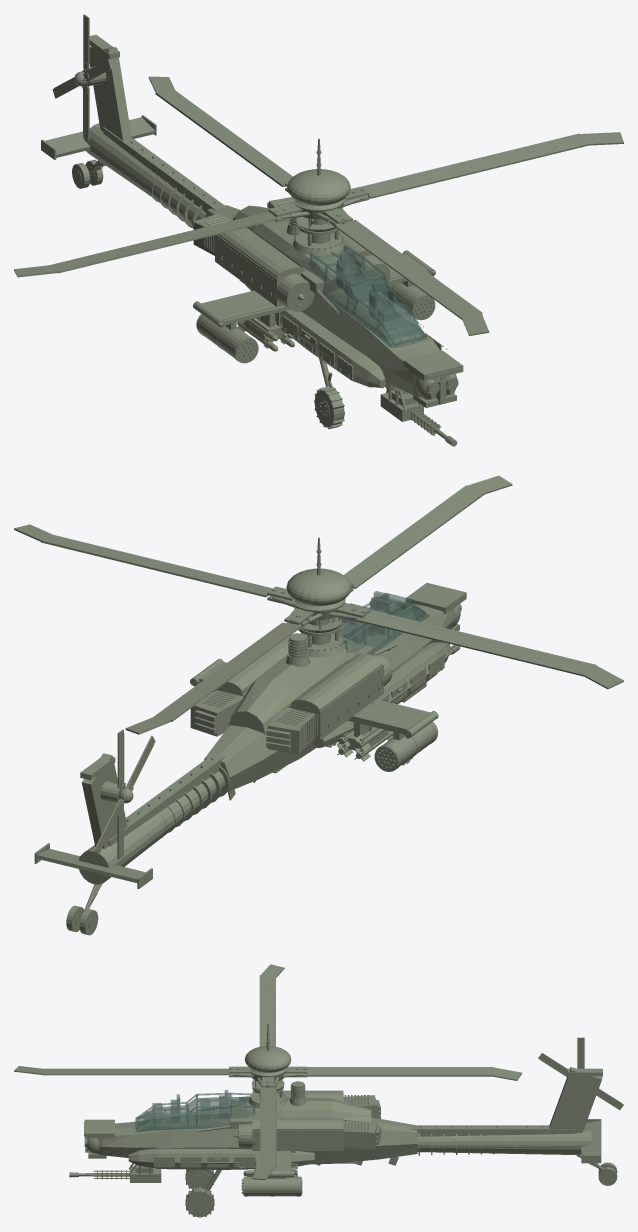
File: Boeing_AH64E_Apache_Master_Blender.glb
The picture shows the model from 3 angles, top to bottom: view 1: azimuth 30°, elevation 25°; view 2: azimuth 150°, elevation 25°; view 3: azimuth 270°, elevation 25°; orthographic projection. The views are drawn at different scales.
Visible parts, largest first — view 1: fuselage_part_0, canopy_part_159, tailboom_part_979, mainRotor_part_476, fuselage_part_1, fuselage_part_12, mainRotor_part_447, tailboom_part_1011, tailboom_part_994, mainRotor_part_552, nacelles_part_554, nacelles_part_555 (+15 smaller); view 2: fuselage_part_0, fuselage_part_1, tailboom_part_979, mainRotor_part_534, mainRotor_part_447, nacelles_part_554, nacelles_part_555, fuselage_part_12, tailboom_part_994, mainRotor_part_552, mainRotor_part_505, tailboom_part_1011 (+13 smaller); view 3: fuselage_part_0, tailboom_part_979, canopy_part_159, fuselage_part_84, fuselage_part_1, tailboom_part_1011, tailboom_part_994, nacelles_part_630, mainRotor_part_505, mainRotor_part_476, mainRotor_part_552, mainRotor_part_447 (+17 smaller).
Boxes of the visible parts, x1,y1,x2,y2 form: fuselage_part_0: [205, 205, 436, 397]; canopy_part_159: [310, 250, 425, 347]; tailboom_part_979: [84, 123, 206, 224]; mainRotor_part_476: [365, 136, 589, 198]; fuselage_part_1: [233, 205, 360, 293]; fuselage_part_12: [251, 289, 385, 388]; mainRotor_part_447: [336, 221, 481, 319]; tailboom_part_1011: [89, 46, 131, 140]; tailboom_part_994: [103, 127, 227, 212]; mainRotor_part_552: [287, 169, 350, 205]; nacelles_part_554: [215, 234, 300, 306]; nacelles_part_555: [218, 227, 305, 278]; fuselage_part_0: [204, 604, 455, 791]; fuselage_part_1: [229, 637, 360, 734]; tailboom_part_979: [78, 771, 224, 884]; mainRotor_part_534: [361, 612, 595, 676]; mainRotor_part_447: [347, 487, 485, 588]; nacelles_part_554: [290, 665, 383, 740]; nacelles_part_555: [291, 653, 382, 711]; fuselage_part_12: [313, 642, 450, 748]; tailboom_part_994: [108, 753, 226, 846]; mainRotor_part_552: [286, 568, 351, 606]; mainRotor_part_505: [152, 622, 296, 721]; tailboom_part_1011: [81, 753, 127, 848]; fuselage_part_0: [97, 1113, 417, 1164]; tailboom_part_979: [417, 1129, 591, 1155]; canopy_part_159: [136, 1096, 253, 1132]; fuselage_part_84: [128, 1148, 314, 1169]; fuselage_part_1: [230, 1097, 371, 1122]; tailboom_part_1011: [549, 1067, 602, 1132]; tailboom_part_994: [409, 1125, 576, 1136]; nacelles_part_630: [252, 1120, 343, 1150]; mainRotor_part_505: [307, 1069, 493, 1076]; mainRotor_part_476: [260, 1087, 275, 1167]; mainRotor_part_552: [244, 1046, 291, 1072]; mainRotor_part_447: [42, 1068, 228, 1072].
Size of the model in its own units: 14.78 by 5.75 by 17.74.
